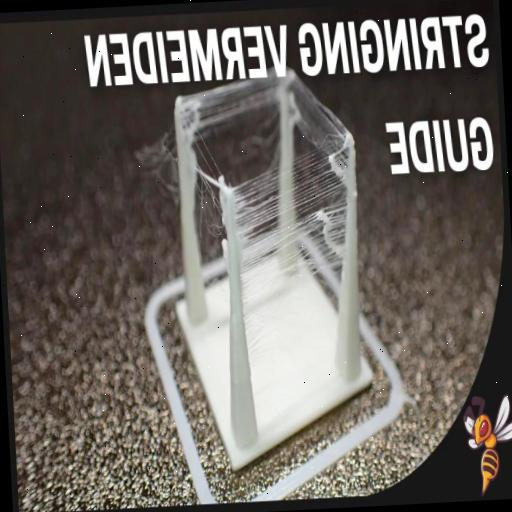stringing: (232, 145, 346, 336), (184, 74, 279, 140), (293, 73, 345, 192), (196, 158, 224, 246)
